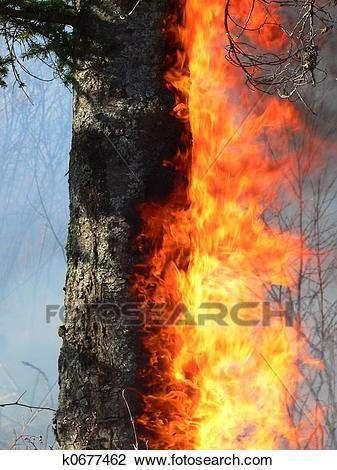fire: (154, 4, 322, 445)
